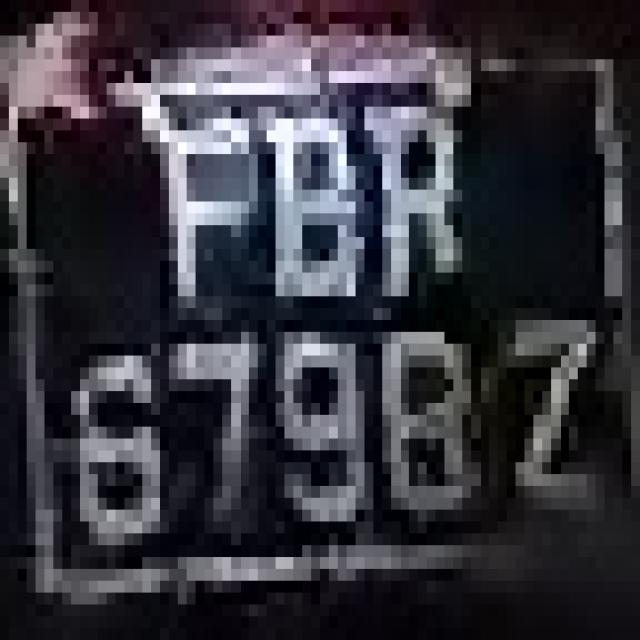6: (53, 320, 178, 557)
7: (133, 320, 267, 569)
8: (347, 308, 471, 545)
9: (258, 308, 373, 557)
B: (231, 71, 373, 320)
F: (133, 59, 249, 332)
R: (356, 71, 480, 308)
Z: (462, 284, 614, 522)
